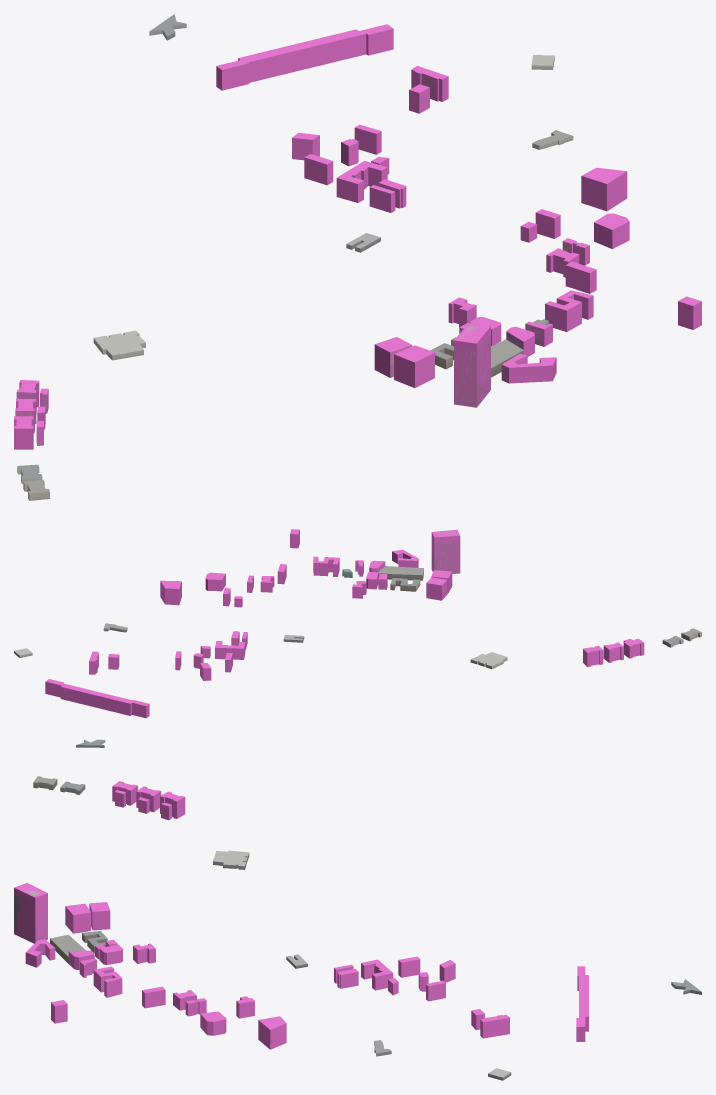
File: bld_14_3.fbx
3 renders of one model, top to bottom at view 1: azimuth 30°, elevation 25°; view 2: azimuth 150°, elevation 25°; view 3: azimuth 270°, elevation 25°, orthographic. The views are drawn at different scales.
Visible parts, largest first — view 1: bld_14_3_COL, bld_14_3_LOD0; view 2: bld_14_3_COL, bld_14_3_LOD0; view 3: bld_14_3_COL, bld_14_3_LOD0.
Boxes of the visible parts, bbox=[...] form: bld_14_3_COL: bbox=[14, 24, 701, 449]; bld_14_3_LOD0: bbox=[15, 14, 584, 500]; bld_14_3_COL: bbox=[45, 529, 644, 718]; bld_14_3_LOD0: bbox=[14, 531, 701, 747]; bld_14_3_COL: bbox=[14, 781, 588, 1049]; bld_14_3_LOD0: bbox=[14, 776, 701, 1080].
Size of what is drawn, in the model's own units: 1870 by 135 by 1817.
